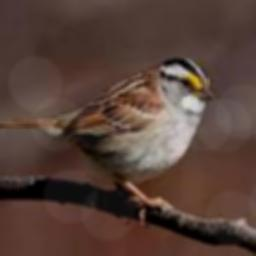Sparrow: (0, 57, 215, 226)
